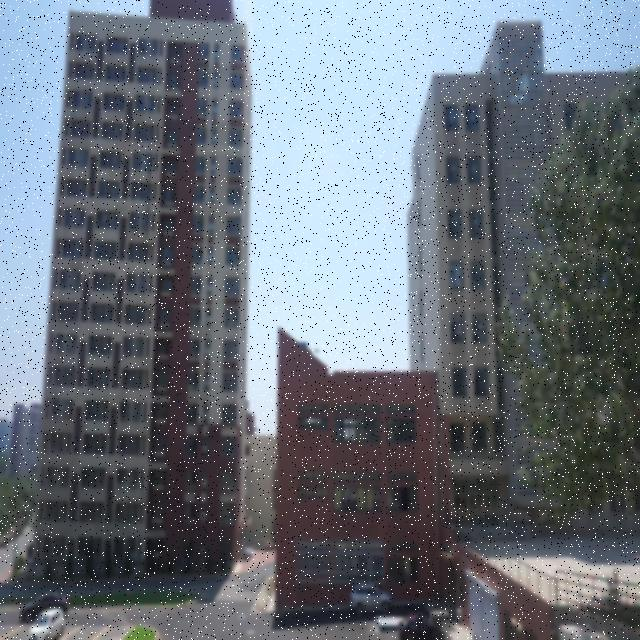UAV: (314, 348, 320, 354)
